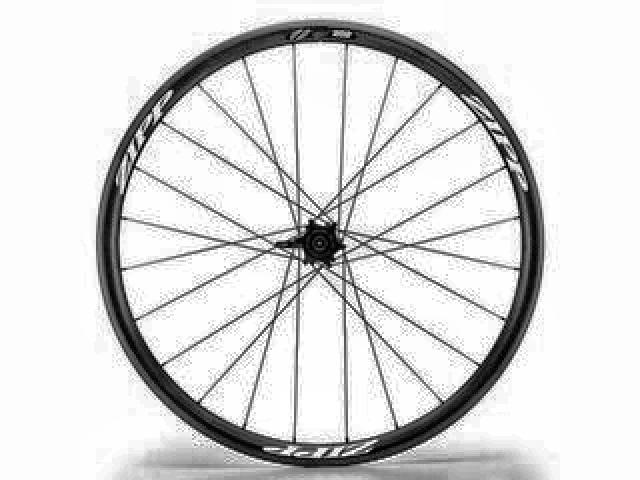wheel: (96, 18, 548, 467)
